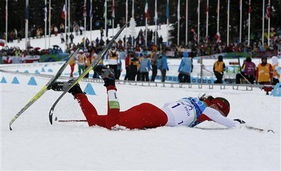10+: (1, 1, 279, 92)
down: (21, 58, 247, 131)
